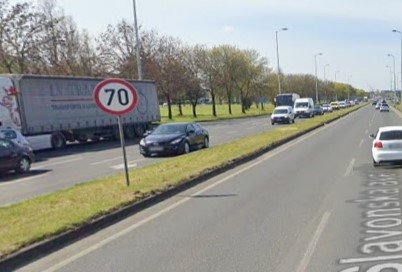Ograničenje brzine 70: (93, 78, 138, 115)
